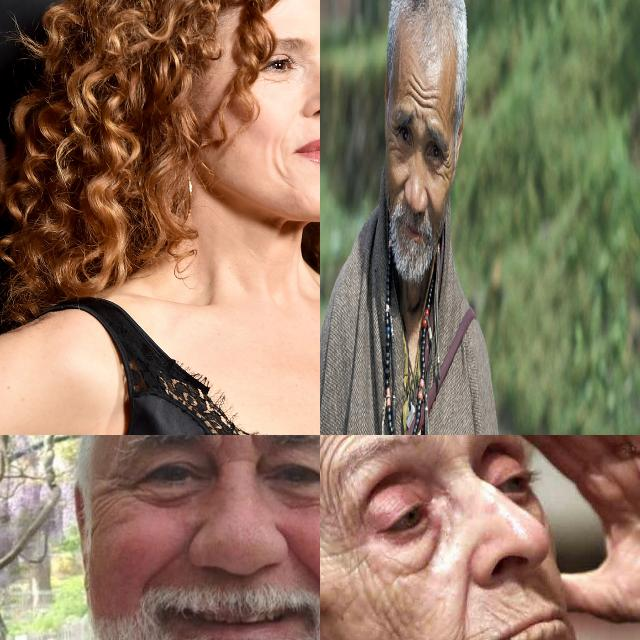crows_feet: (338, 531, 372, 567), (103, 475, 133, 505), (390, 125, 398, 157), (443, 152, 451, 178)
forehead: (408, 70, 440, 108), (320, 470, 344, 510), (320, 435, 341, 462)
frown_line: (222, 452, 252, 466), (216, 435, 232, 448), (415, 108, 426, 126), (245, 435, 256, 447)
gummy_smile: (287, 542, 320, 586), (268, 134, 294, 184), (147, 550, 180, 584), (455, 585, 475, 640), (424, 183, 434, 214), (396, 175, 406, 194)
masseter: (375, 604, 411, 640)
smoker_lines: (497, 596, 527, 616)
